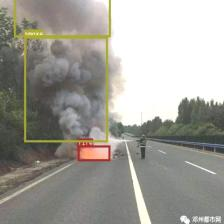fire: (77, 145, 110, 161)
smoke: (24, 36, 108, 142), (14, 0, 110, 37)
